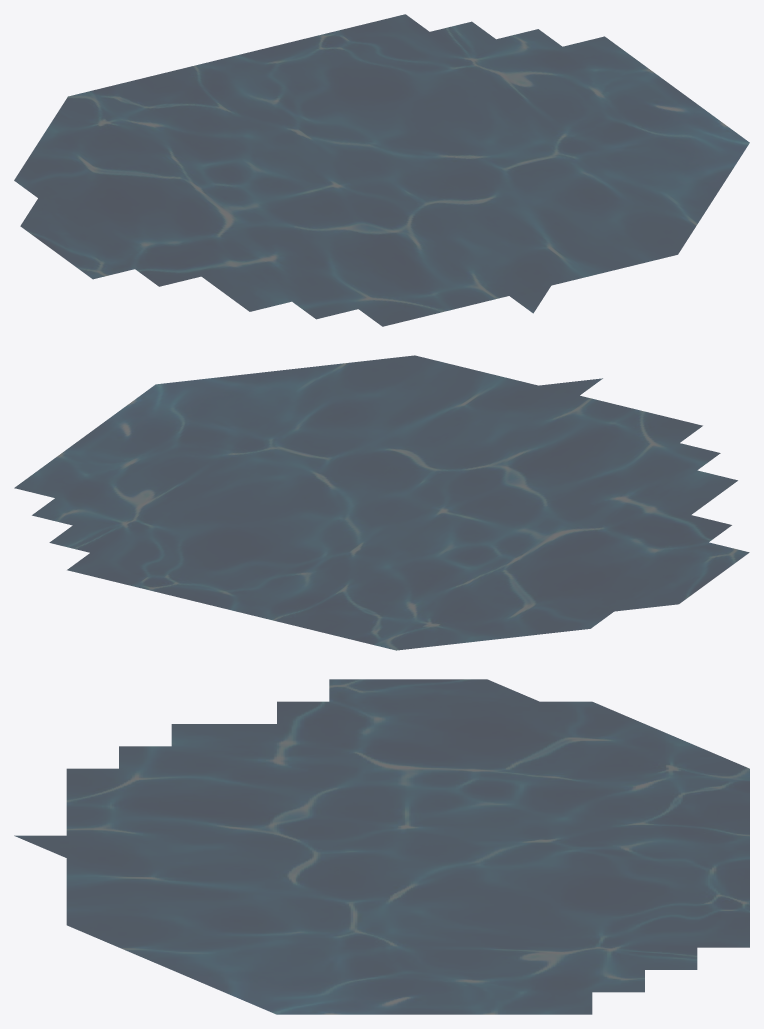
File: pool_water_surface.gltf
3 views of the same model, one above another, from view 1: azimuth 30°, elevation 25°; view 2: azimuth 150°, elevation 25°; view 3: azimuth 270°, elevation 25° (orthographic). The views are drawn at different scales.
Visible parts, largest first — view 1: Plane.001; view 2: Plane.001; view 3: Plane.001.
Part boxes in pixels (x1=…): Plane.001: x1=14, y1=14, x2=749, y2=326; Plane.001: x1=14, y1=355, x2=749, y2=650; Plane.001: x1=14, y1=679, x2=749, y2=1014.
Size of the model in its own units: 83.87 by 0 by 77.75.
Materials: 1 (1 with a texture image).
